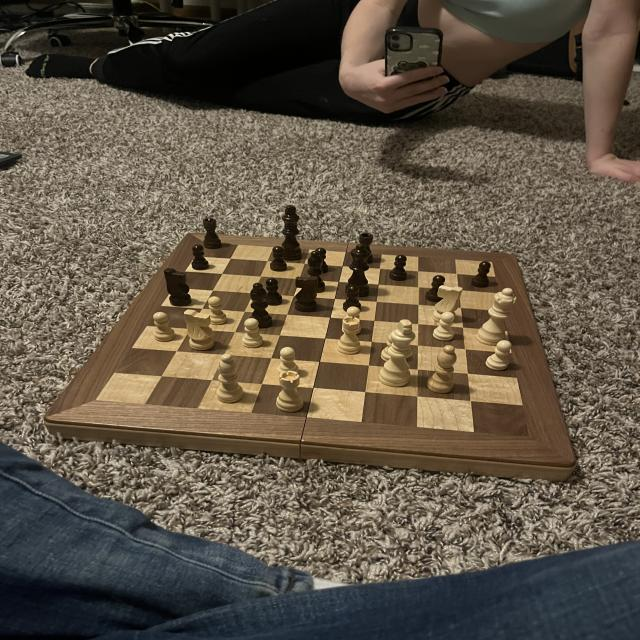bishop: (244, 280, 275, 332), (305, 249, 329, 295)
black-bishop: (275, 202, 309, 262)
black-king: (162, 267, 196, 310), (292, 273, 324, 316)
black-knight: (188, 241, 213, 273), (388, 253, 412, 283), (341, 282, 365, 312), (470, 259, 492, 290), (425, 274, 448, 303), (268, 242, 290, 272), (263, 278, 285, 308), (312, 246, 329, 274)
black-pawn: (342, 243, 375, 300)
black-queen: (199, 215, 226, 251), (354, 230, 379, 267)
black-rook: (424, 342, 459, 395), (213, 352, 248, 405)
white-bishop: (376, 316, 419, 391)
white-king: (180, 305, 218, 353), (432, 282, 466, 327)
white-knight: (376, 327, 404, 367), (484, 338, 515, 373), (238, 318, 268, 352), (151, 310, 179, 346), (275, 344, 304, 378), (432, 310, 460, 342), (205, 294, 230, 326), (341, 302, 364, 334)
white-pawn: (471, 287, 520, 349)
white-queen: (270, 369, 308, 415), (335, 314, 365, 358)
